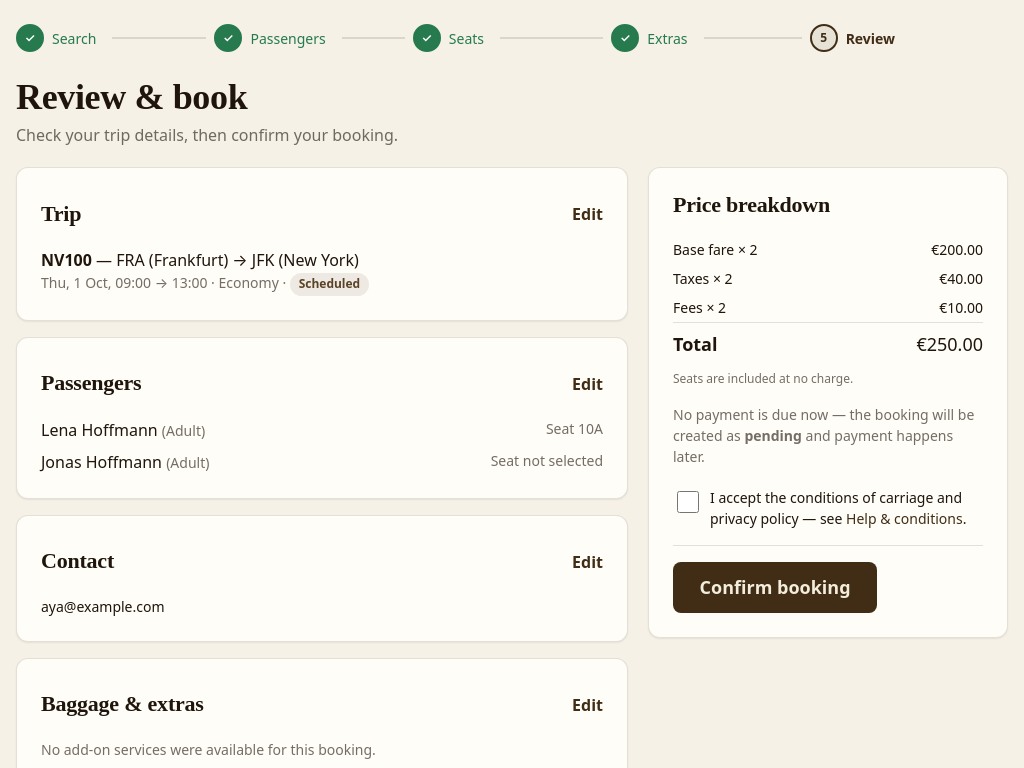
it: ReviewPage › shows a flight-unavailable message on 404
This screenshot has width=1024, height=768.
Click the checkbox with id "consent".
click(688, 502)  # box x1=677 y1=491 x2=699 y2=513
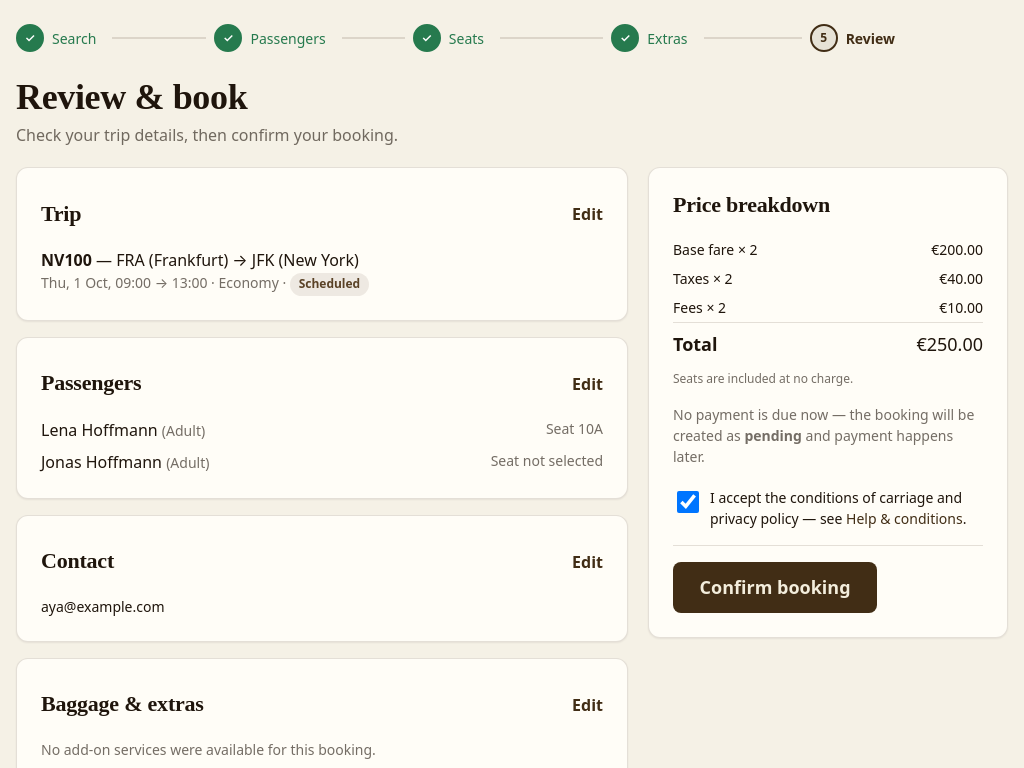
Click the button "Confirm booking".
click(775, 587)  # box x1=673 y1=562 x2=877 y2=613
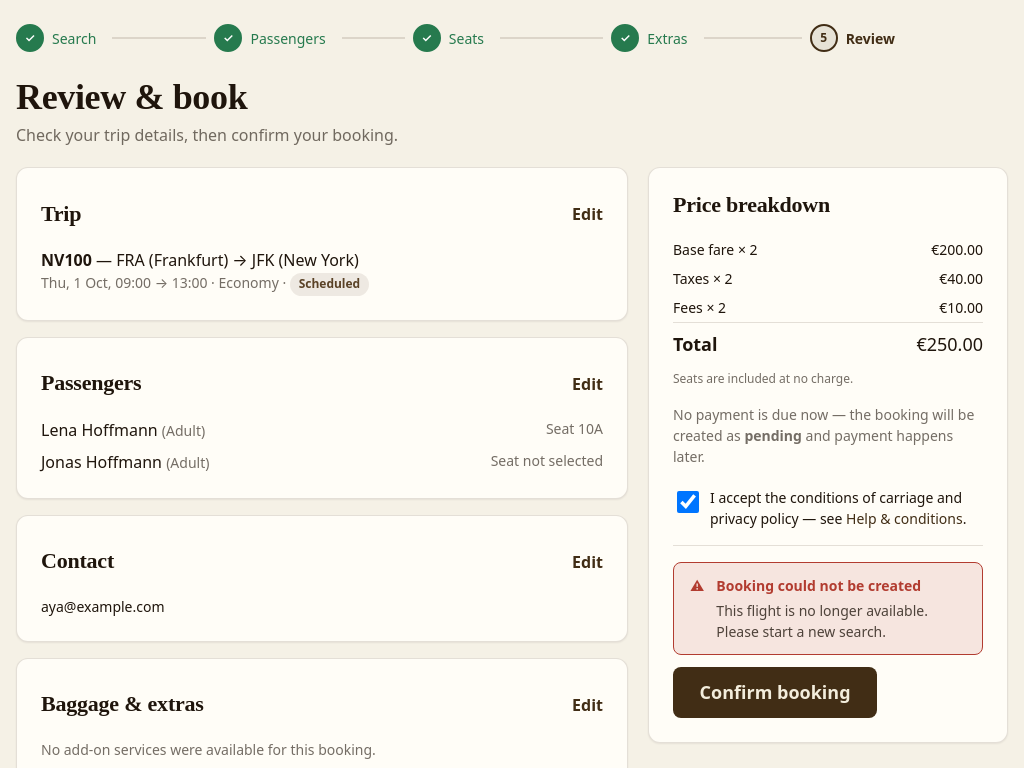
Now the text "no longer available" is shown, box x1=716 y1=601 x2=928 y2=641
